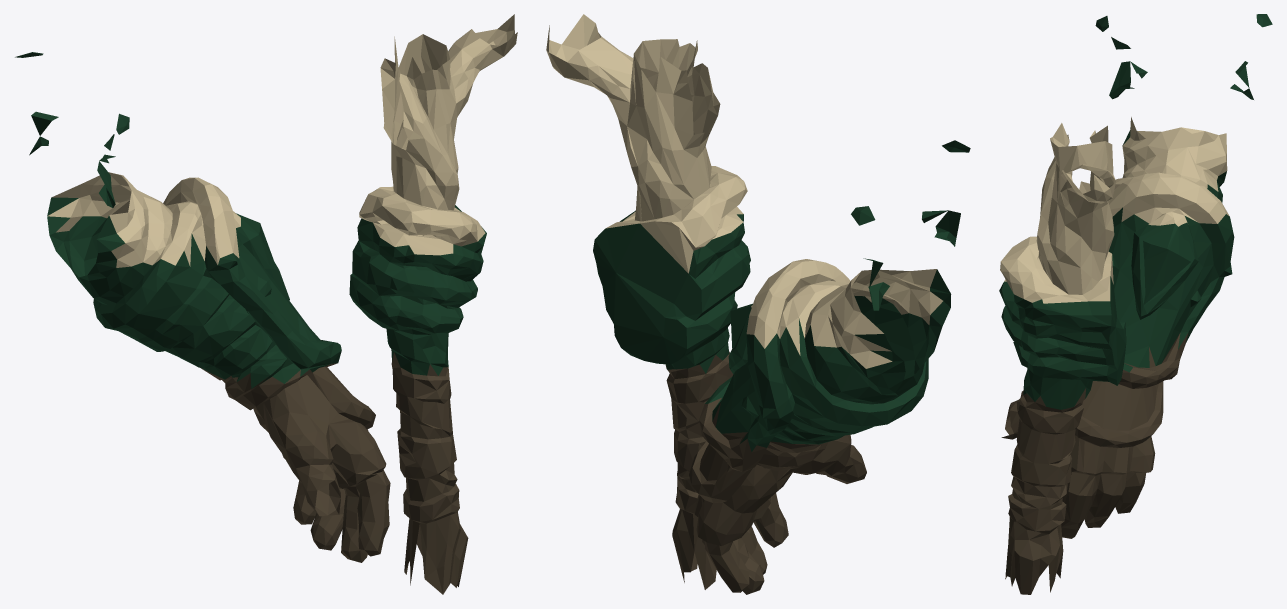
Rendered from necro_arm_l.obj.
The picture shows the model from 3 angles, left to right: view 1: azimuth 30°, elevation 25°; view 2: azimuth 150°, elevation 25°; view 3: azimuth 270°, elevation 25°; orthographic projection. The views are drawn at different scales.
Parts seen in each view (by area): view 1: Necro_LeftArm; view 2: Necro_LeftArm; view 3: Necro_LeftArm.
Part boxes in pixels (<box>): Necro_LeftArm: <box>15,14,517,594</box>; Necro_LeftArm: <box>546,14,970,594</box>; Necro_LeftArm: <box>999,14,1272,594</box>.
Size of the model in its own units: 0.51 by 0.6295 by 0.3369.
